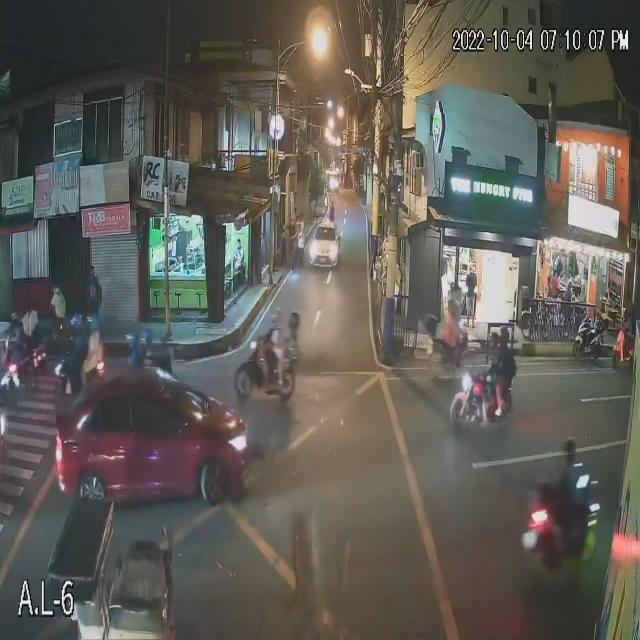0 motorcycle: (507, 494, 606, 570), (224, 344, 307, 408), (450, 373, 518, 431), (48, 350, 109, 397), (567, 316, 608, 365), (10, 342, 57, 373), (0, 360, 31, 402)
1 rider: (551, 460, 583, 534), (261, 324, 289, 374), (281, 330, 307, 375), (67, 334, 90, 379), (498, 349, 518, 399), (20, 312, 42, 357), (84, 332, 104, 376), (481, 347, 501, 387)
2 helmet: (560, 434, 586, 469), (284, 309, 307, 337), (82, 311, 105, 339), (61, 312, 87, 335), (267, 310, 287, 334)
